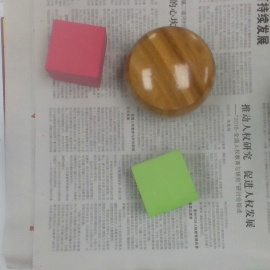chess: (125, 26, 215, 118)
